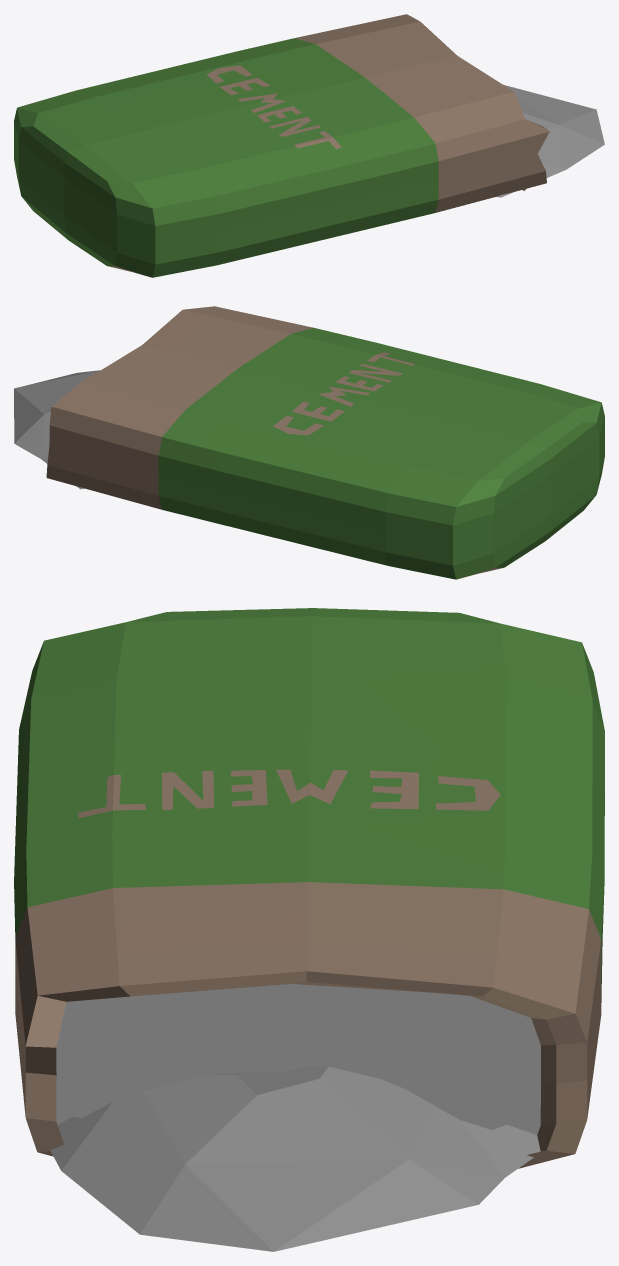
The model's file is SM_Props_CementC1_03.glb.
3 views of the same model, one above another, from view 1: azimuth 30°, elevation 25°; view 2: azimuth 150°, elevation 25°; view 3: azimuth 270°, elevation 25° (orthographic). The views are drawn at different scales.
Parts seen in each view (by area): view 1: SM_Props_CementC1_03; view 2: SM_Props_CementC1_03; view 3: SM_Props_CementC1_03.
Part boxes in pixels (x1,y1,x2,y2): SM_Props_CementC1_03: (14, 14, 604, 277); SM_Props_CementC1_03: (14, 306, 604, 579); SM_Props_CementC1_03: (14, 608, 604, 1251).
Bounding box in the file's own units: 0.7245 × 0.1276 × 0.3624.
1 material, 1 textured.
